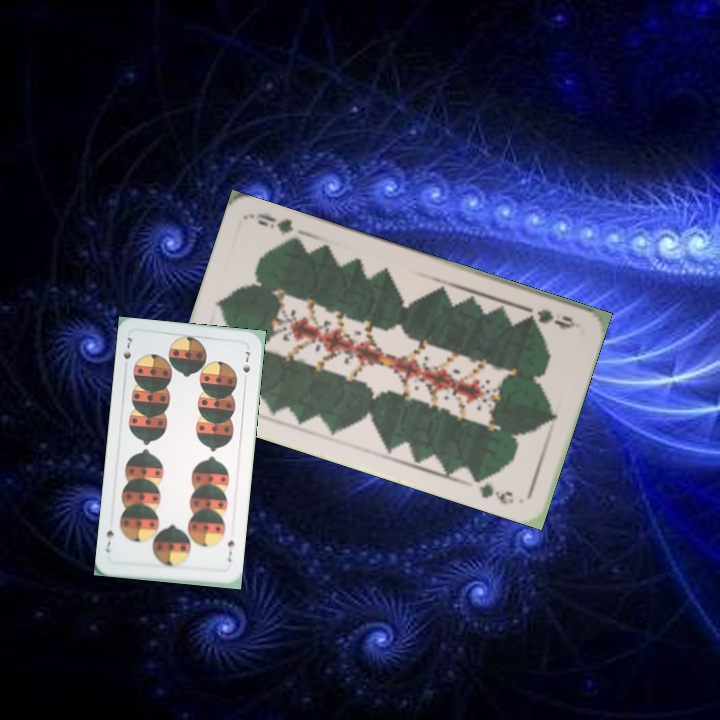G9: (522, 303, 580, 332)
S7: (119, 333, 135, 362), (223, 536, 237, 564)
